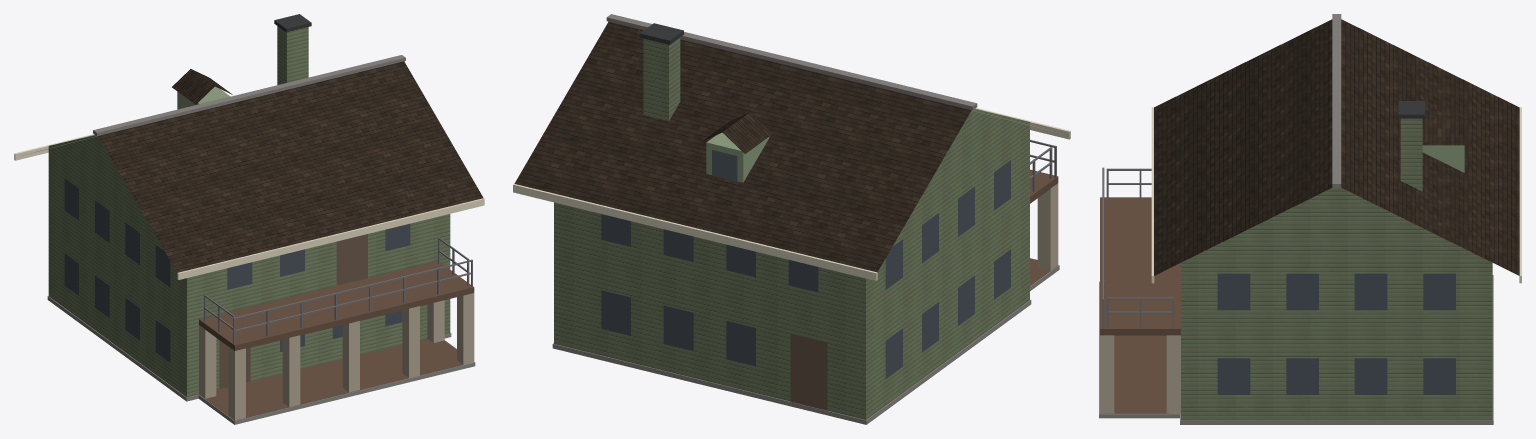
The model's file is rw-craftsman.towns-v1.lod1.glb.
3 renders of one model, left to right at view 1: azimuth 30°, elevation 25°; view 2: azimuth 150°, elevation 25°; view 3: azimuth 270°, elevation 25°, orthographic. The views are drawn at different scales.
Parts seen in each view (by area): view 1: rw-craftsman; view 2: rw-craftsman; view 3: rw-craftsman.
Boxes of the visible parts, x1,y1,x2,y2 form: rw-craftsman: (14,14,484,424); rw-craftsman: (513,14,1070,424); rw-craftsman: (1099,14,1521,424).
Size of the model in its own units: 12.9 by 10.14 by 13.57.
3 materials, 2 textured.
